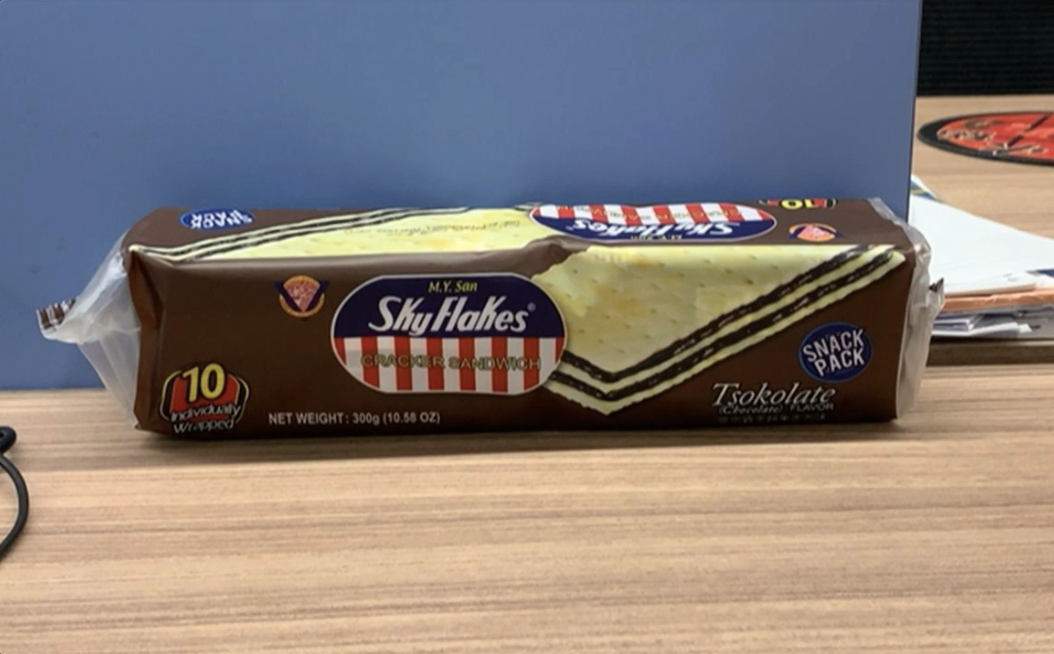crackers_150g: (156, 218, 878, 420)
